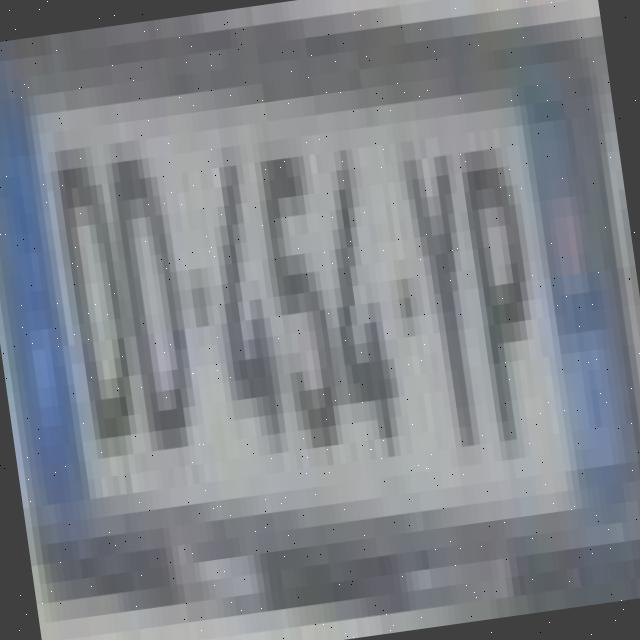Autre: (0, 50, 640, 562)
